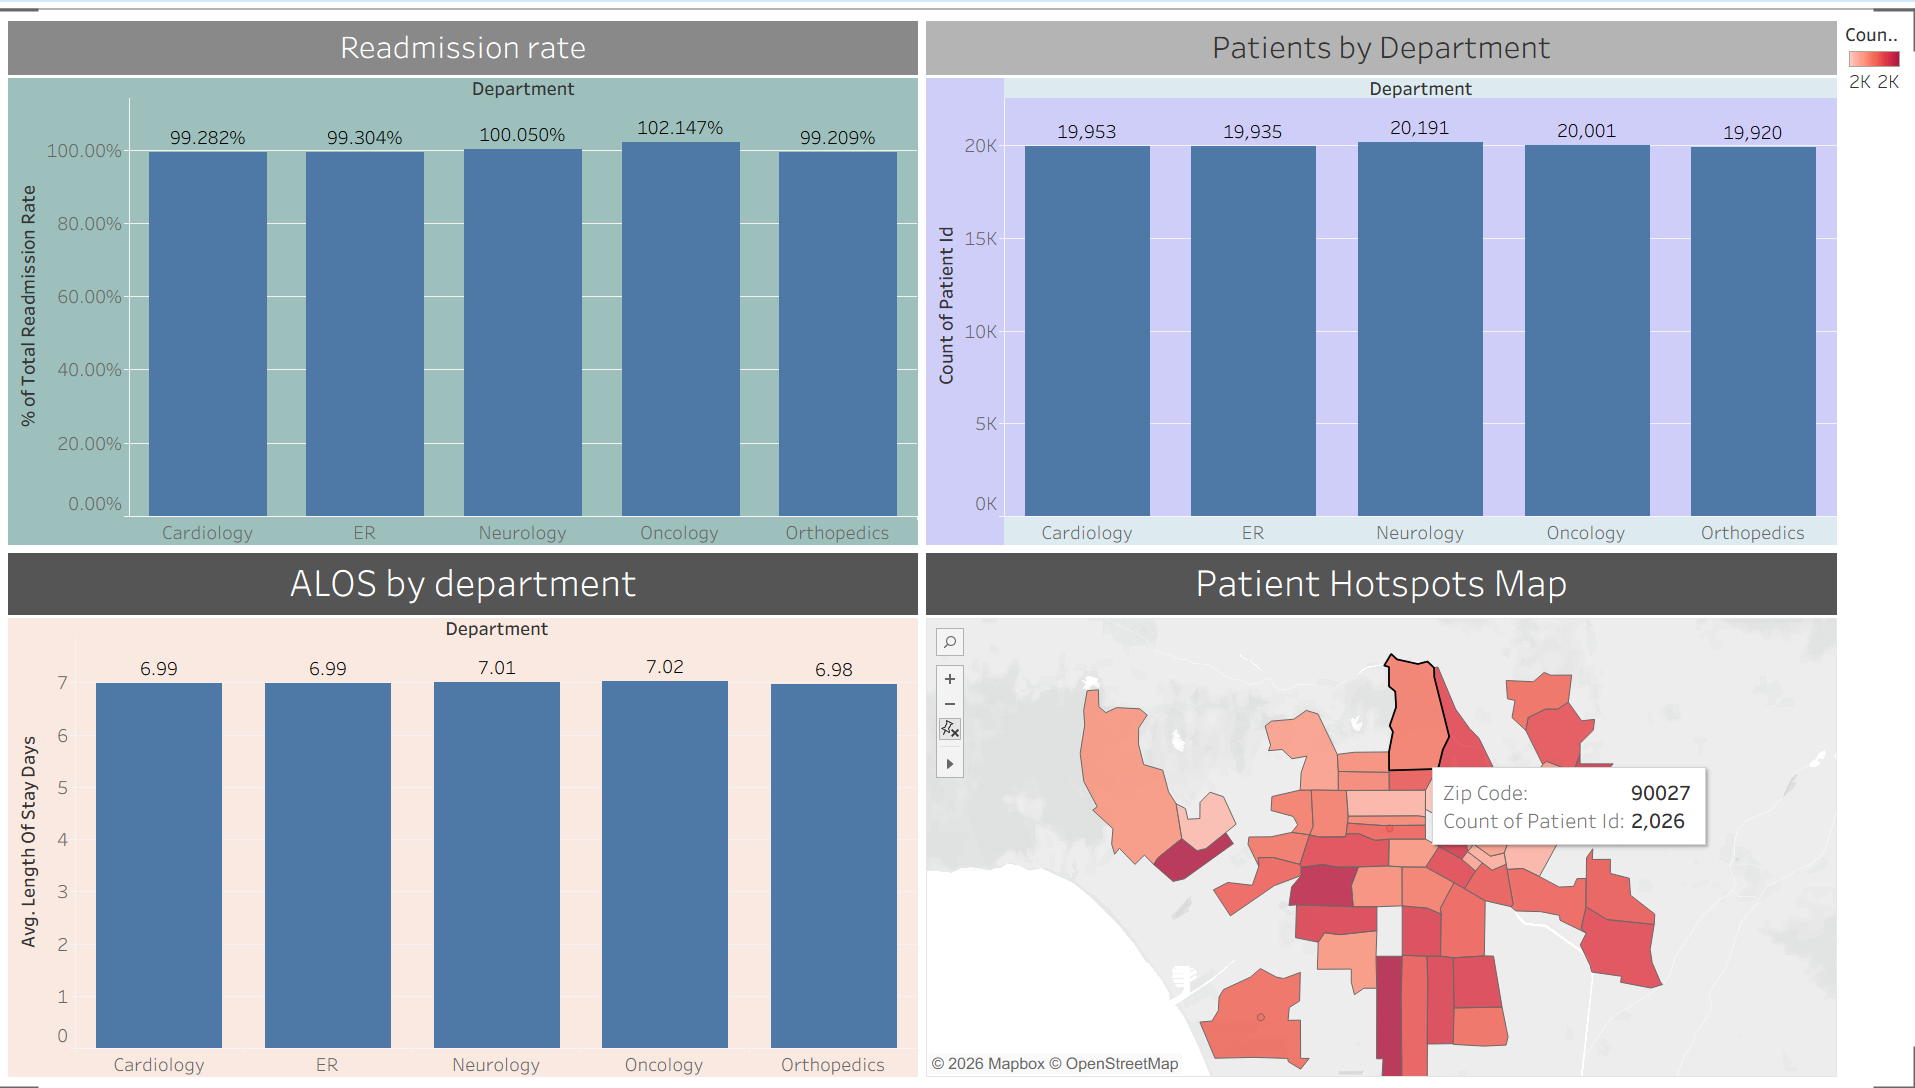

The page's visual inventory and layout, read from the dashboard file:
{"tool":"tableau","page":{"name":"Dashboard 1","canvas":[650,860],"ordinal":0},"visuals":[{"type":"worksheet","title":"Readmission rate","mark":"Bar","rows":["Calculation_0288406480257024"],"cols":["department"],"box":[8,8.3,283.5,421.7]},{"type":"worksheet","title":"Patients by Department","mark":"Automatic","rows":["patient_id"],"cols":["department"],"box":[291.5,8.3,283.5,421.7]},{"type":"legend","title":"Patient Hotspots Map","param":"[federated.1h0t6cg0trgggm1397map1hysj9y].[cnt:patient_id:qk]","box":[575,8.3,67,84.2]},{"type":"worksheet","title":"ALOS by Department","mark":"Automatic","rows":["length_of_stay_days"],"cols":["department"],"box":[8,430,283.5,421.7]},{"type":"worksheet","title":"Patient Hotspots Map","mark":"Automatic","box":[291.5,430,283.5,421.7]}]}

Visuals, with their boxes in screenshot pixels (x1, y1, x2, y2):
"Readmission rate" worksheet (Bar marks): 559, 20, 912, 546
"Patients by Department" worksheet: 912, 20, 1265, 546
"Patient Hotspots Map" legend: 1265, 20, 1349, 125
"ALOS by Department" worksheet: 559, 546, 912, 1072
"Patient Hotspots Map" worksheet: 912, 546, 1265, 1072
